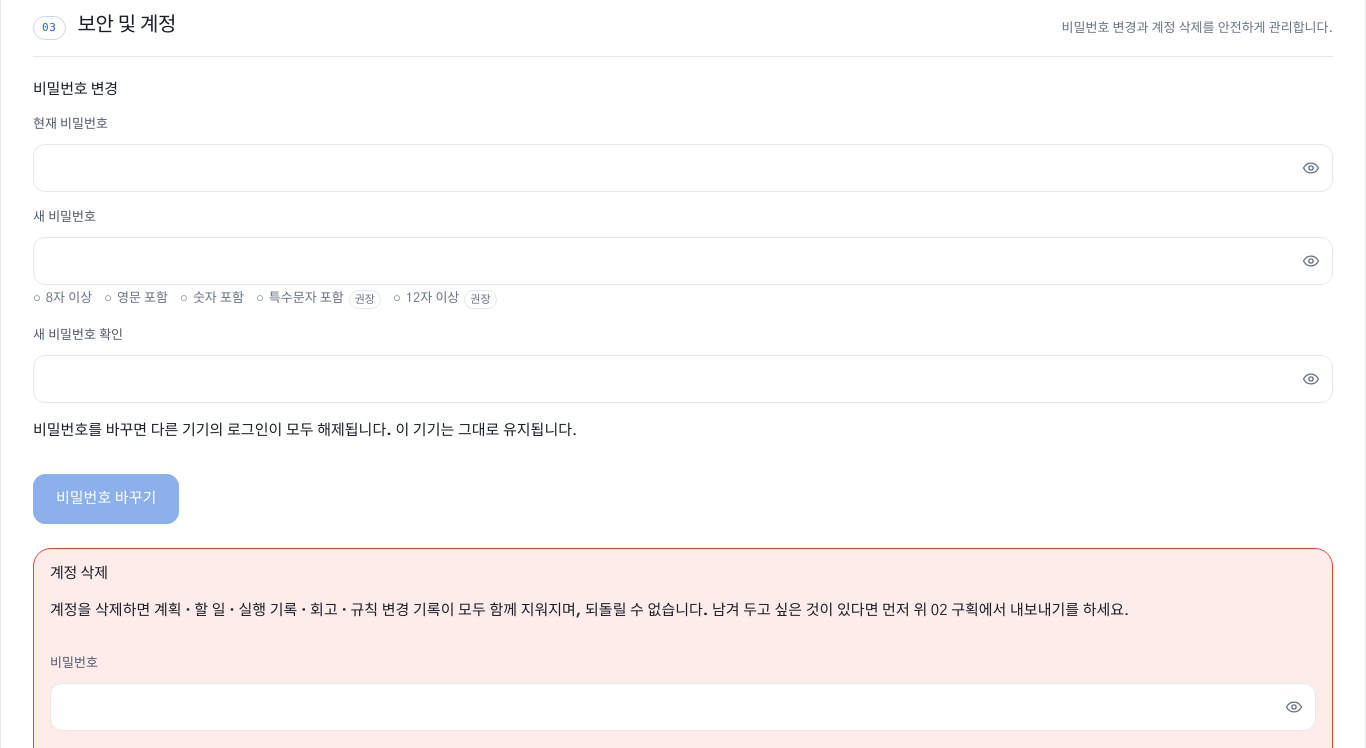
Test: 계정 삭제 › 비밀번호와 확인 문구가 모두 있어야 눌린다
The image size is (1366, 748).
Expected: the password field labelled "현재 비밀번호" is shown, [33, 144, 1333, 192]
Type "합성-현재-비밀번호-2c40" into the password field labelled "비밀번호" at coordinates (683, 707), box [50, 683, 1316, 731]
(page scrolled)
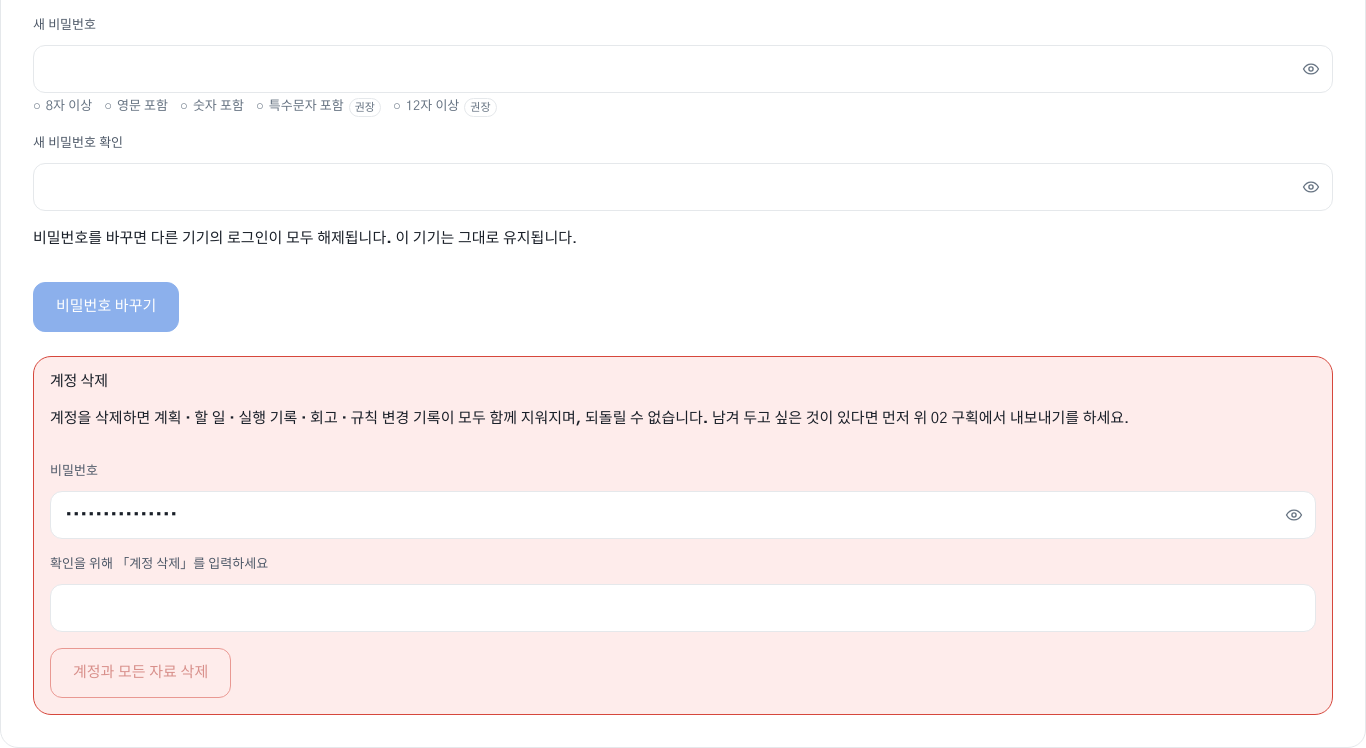
Expected: the button "계정과 모든 자료 삭제" is disabled, [50, 648, 231, 698]
Type "계정 삭재" into the field labelled "확인을 위해 「계정 삭제」를 입력하세요" at coordinates (683, 608), box [50, 584, 1316, 632]
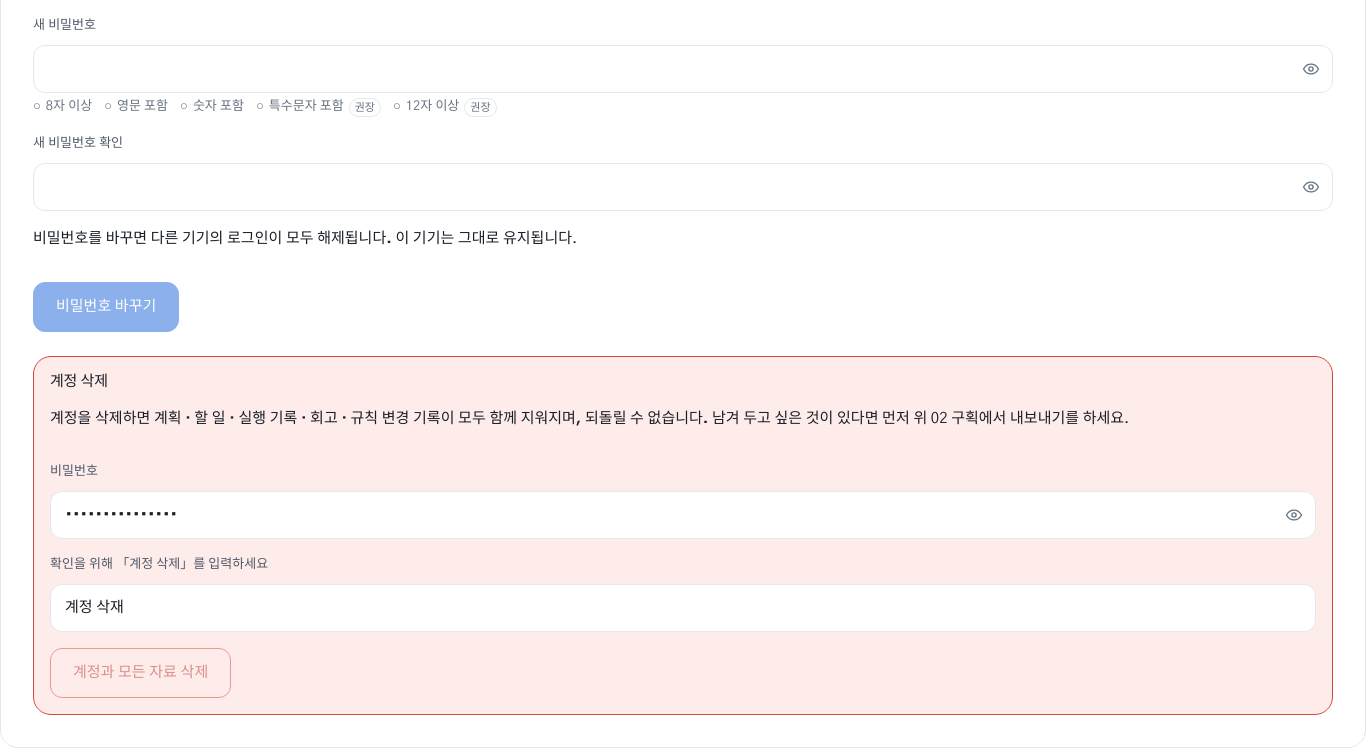
Expected: the button "계정과 모든 자료 삭제" is disabled, [50, 648, 231, 698]
Replace the text in the field labelled "확인을 위해 「계정 삭제」를 입력하세요" with "계정 삭제" at coordinates (683, 608), box [50, 584, 1316, 632]
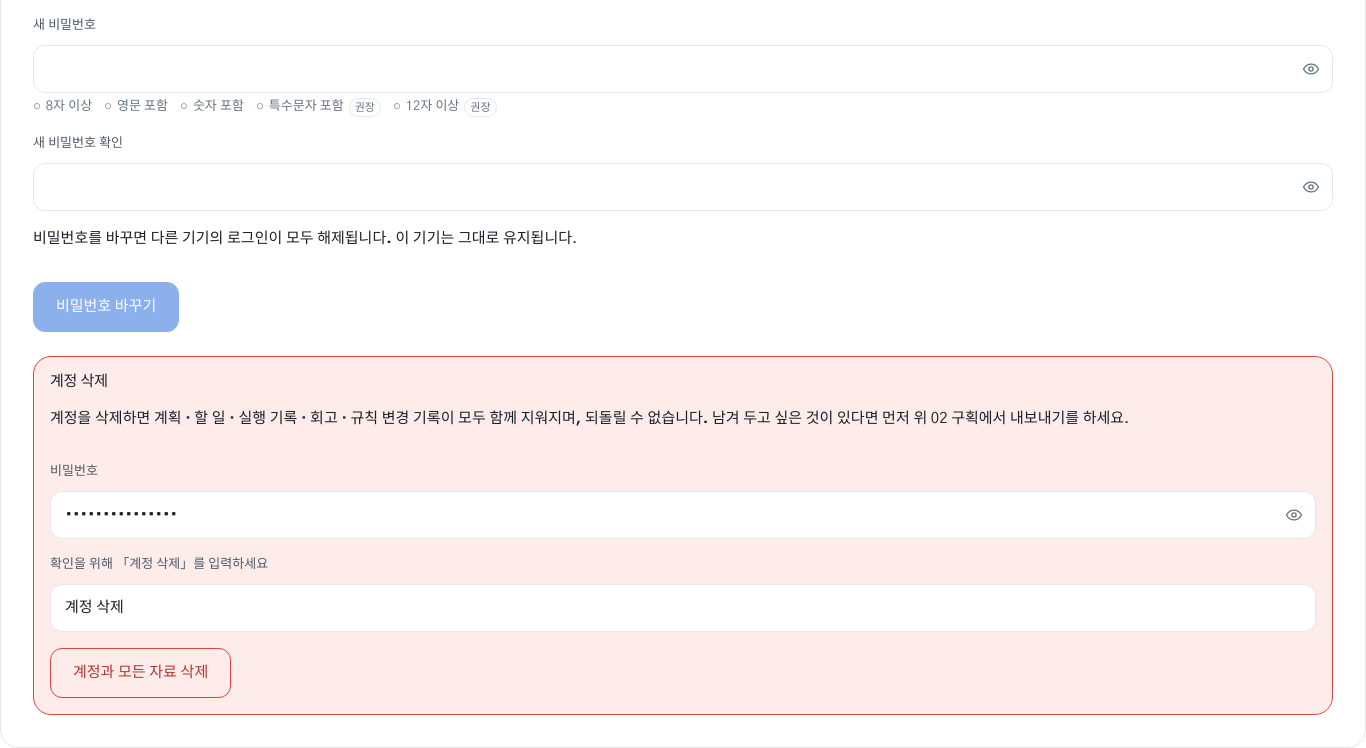
Expected: the button "계정과 모든 자료 삭제" is enabled, [50, 648, 231, 698]
